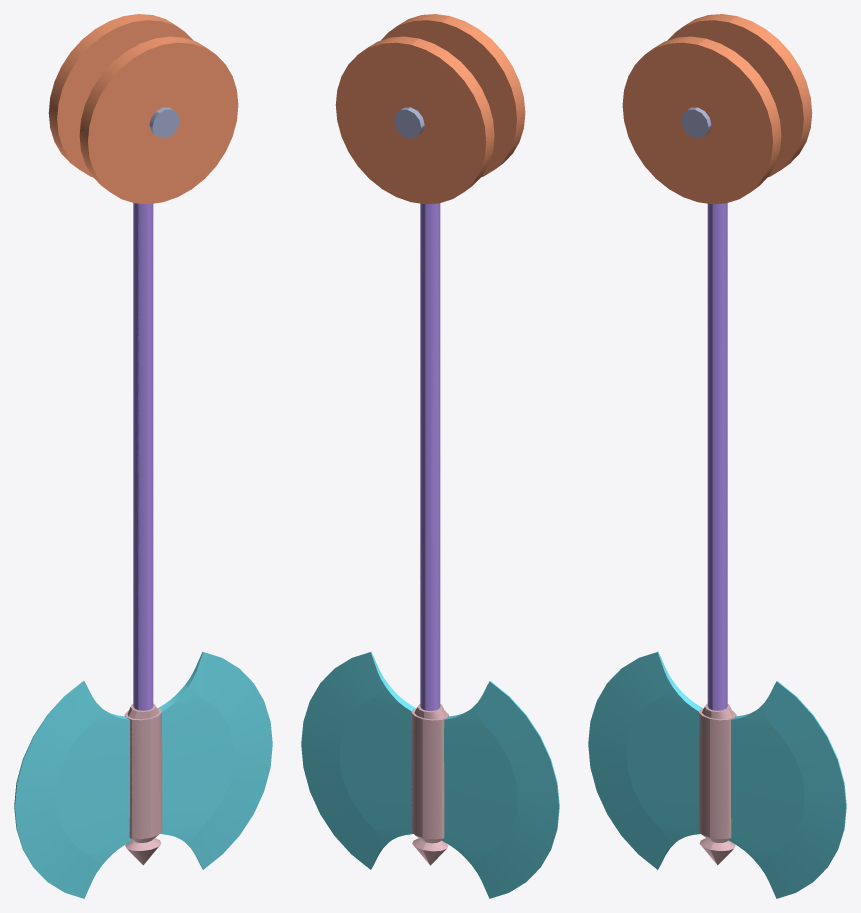
File: Axe.fbx
3 renders of one model, left to right at view 1: azimuth 30°, elevation 25°; view 2: azimuth 150°, elevation 25°; view 3: azimuth 330°, elevation 25°, orthographic.
Visible parts, largest first — view 1: Axe; view 2: Axe; view 3: Axe.
Part boxes in pixels (left/top/right/bottom): Axe: left=14, top=14, right=272, bottom=898; Axe: left=301, top=14, right=559, bottom=898; Axe: left=588, top=14, right=846, bottom=898.
Bounding box in the file's own units: 126 × 399 × 38.63.
